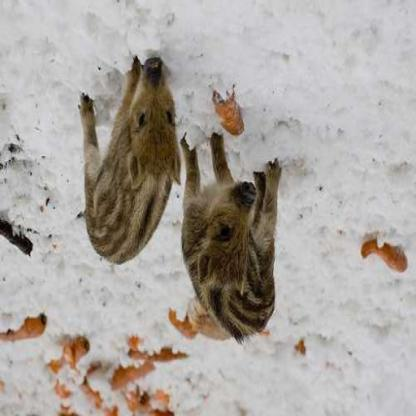boar: (69, 50, 202, 267)
